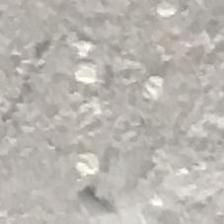Non_Crack: (23, 35, 190, 196)
